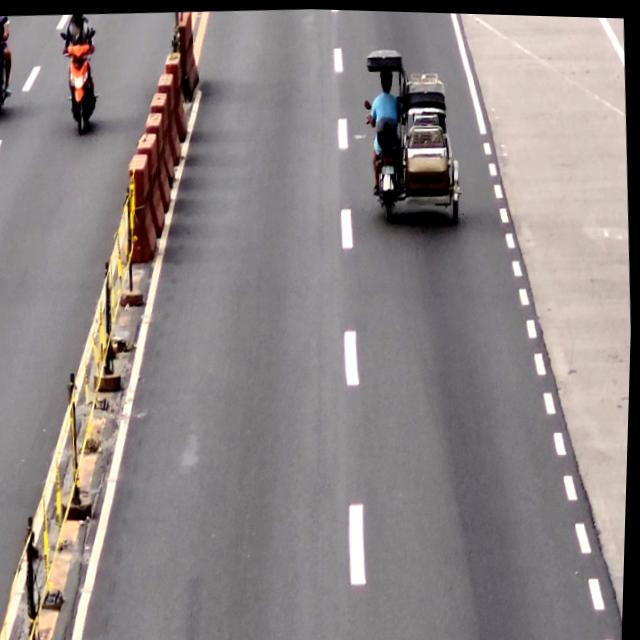License-Plate: (381, 161, 395, 175)
Tricycle: (359, 39, 468, 221)
